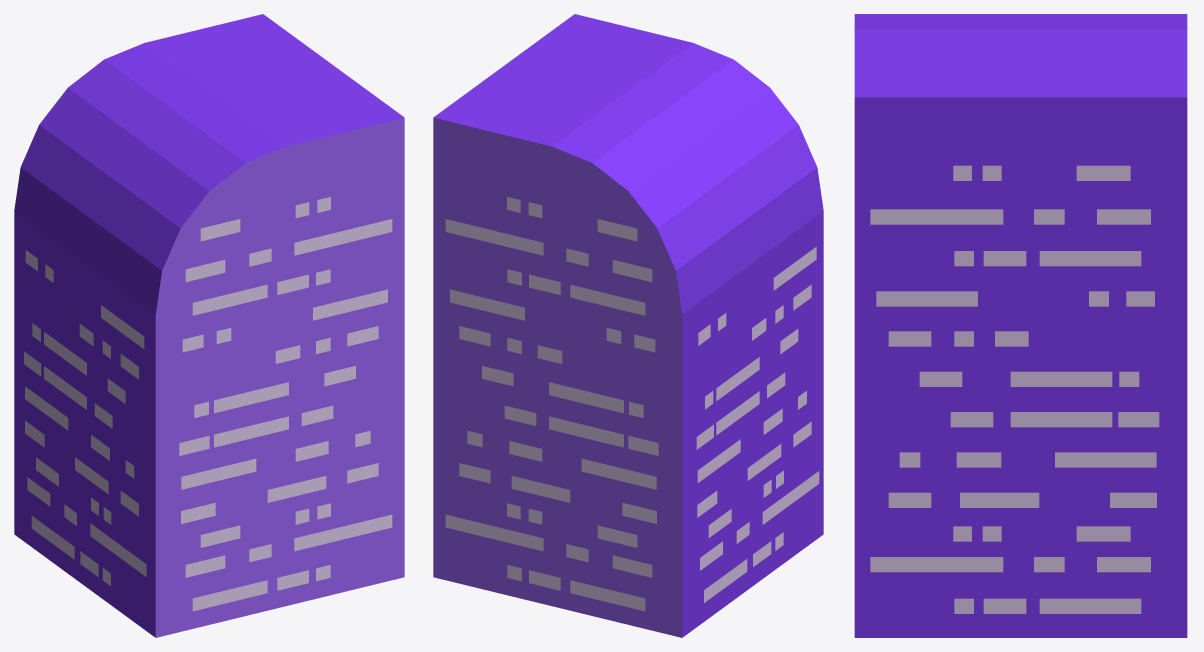
The model's file is Building_034.fbx.
The picture shows the model from 3 angles, left to right: view 1: azimuth 30°, elevation 25°; view 2: azimuth 150°, elevation 25°; view 3: azimuth 270°, elevation 25°; orthographic projection. The views are drawn at different scales.
Parts seen in each view (by area): view 1: Building_034; view 2: Building_034; view 3: Building_034.
Part boxes in pixels (x1,y1,x2,y2): Building_034: [14, 14, 404, 637]; Building_034: [433, 14, 823, 637]; Building_034: [854, 14, 1187, 637].
Size of the model in its own units: 30.33 by 52.82 by 29.84.
